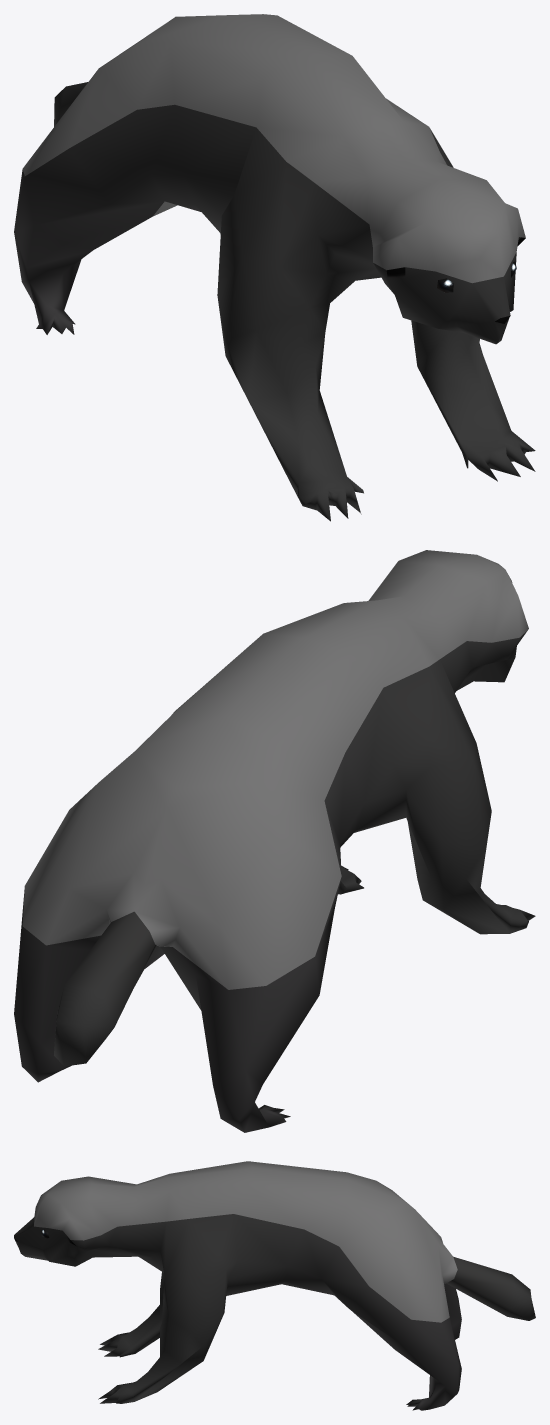
The model's file is c67e12d0-a391-4fac-a4fc-1781d92e357d.glb.
3 renders of one model, top to bottom at view 1: azimuth 30°, elevation 25°; view 2: azimuth 150°, elevation 25°; view 3: azimuth 270°, elevation 25°, orthographic. The views are drawn at different scales.
Visible parts, largest first — view 1: HoneyBadger; view 2: HoneyBadger; view 3: HoneyBadger.
Part boxes in pixels (x1=…): HoneyBadger: x1=14, y1=14, x2=535, y2=521; HoneyBadger: x1=14, y1=550, x2=535, y2=1132; HoneyBadger: x1=14, y1=1161, x2=535, y2=1410.
Size of what is drawn, in the model's own units: 0.4938 by 0.574 by 1.3.
Materials: 1 (1 with a texture image).
